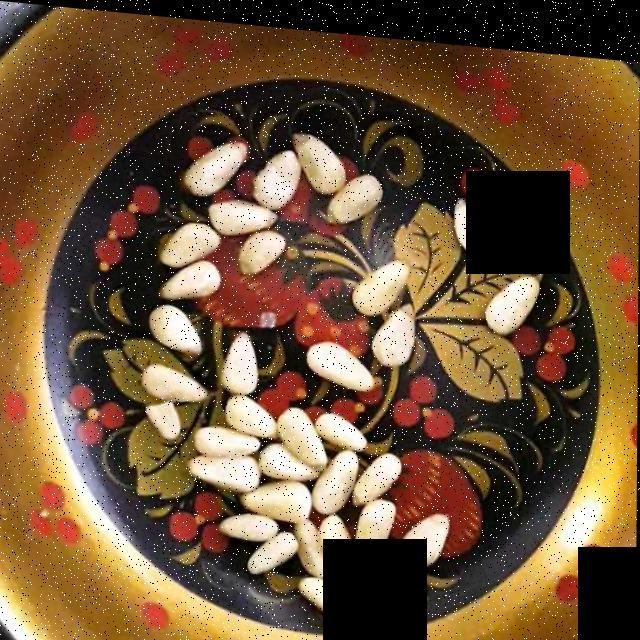nuts: (122, 91, 466, 606)
